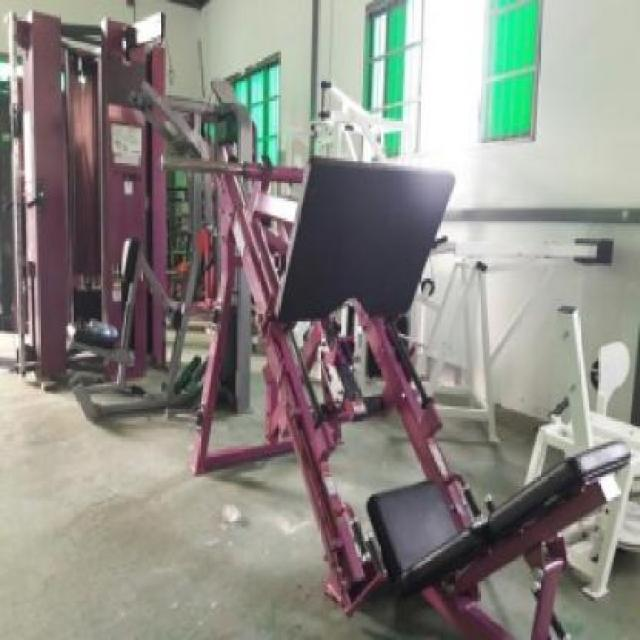leg press: (143, 124, 640, 640)
